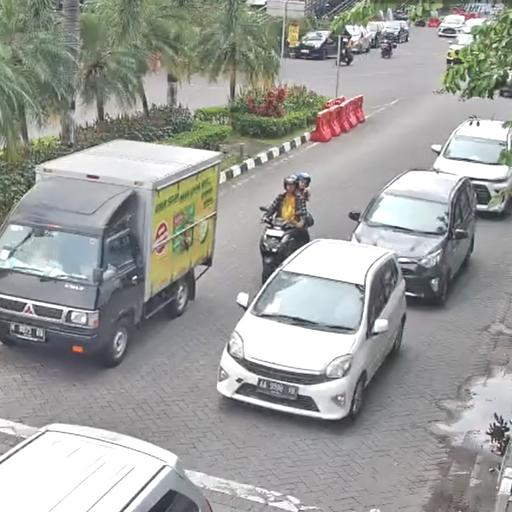mobil: (0, 136, 225, 368), (220, 238, 408, 422), (350, 172, 478, 302), (434, 114, 512, 210)
motor: (255, 204, 319, 276)
